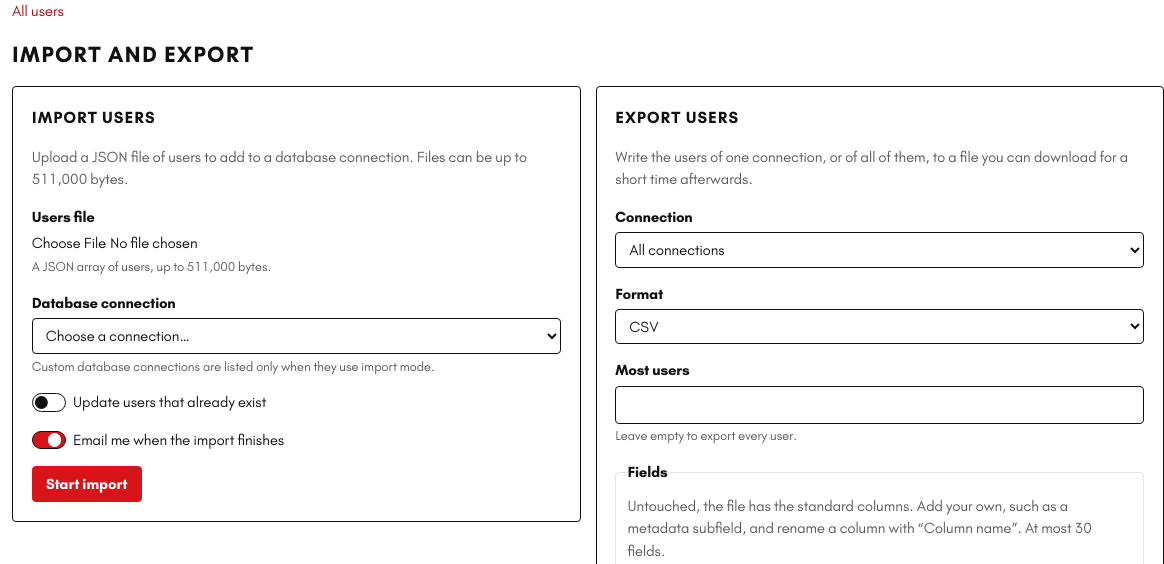
Test: export form › refuses the limit 0
Type "0" into the field with id "export-limit". click: (880,404)
box: 615,386 -> 1144,424
(page scrolled)
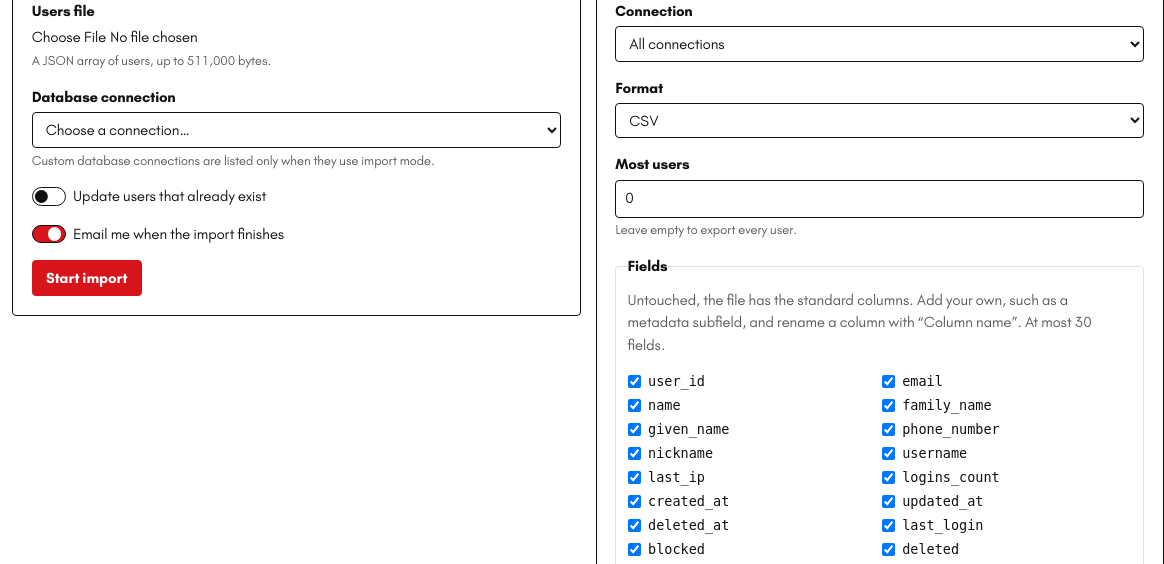
Submit the form that starts with "Connection"
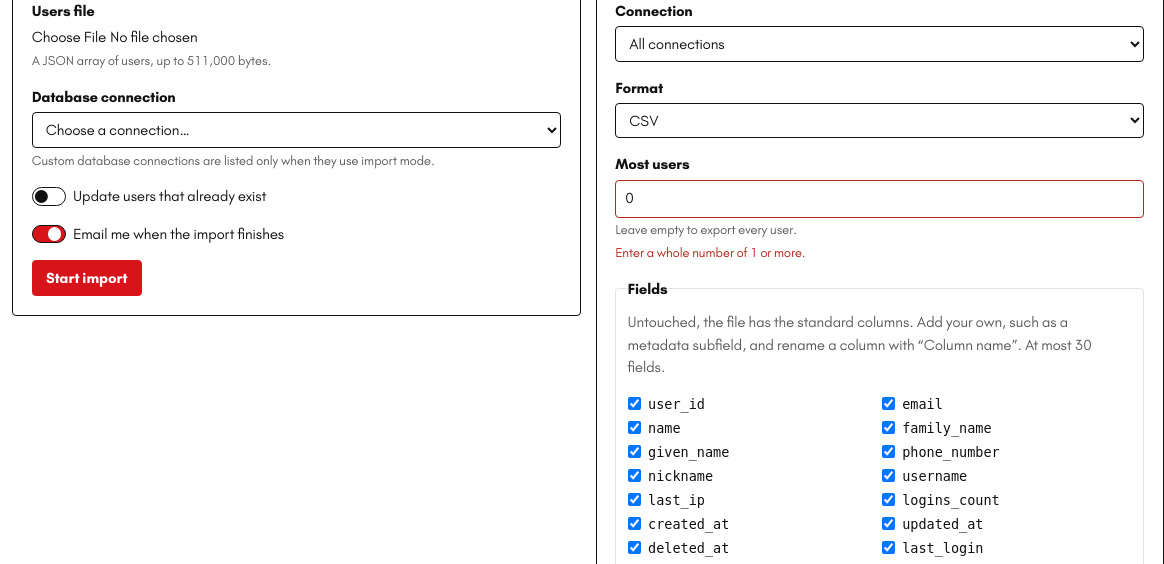
Now the message with id "export-limit-error" shows "whole number", box 615,245 -> 806,260
